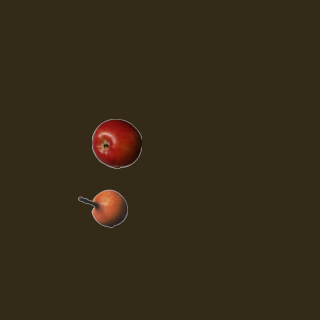Apple Braeburn: (91, 118, 141, 168)
Granadilla: (77, 183, 127, 233)
